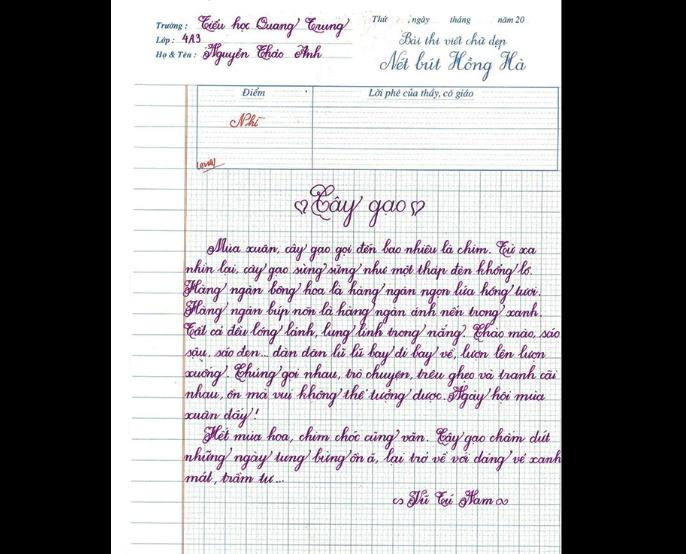text: (181, 445, 563, 473), (182, 320, 562, 348), (184, 298, 542, 327), (184, 361, 558, 388), (205, 232, 537, 262), (202, 423, 552, 451), (185, 382, 546, 409), (182, 278, 539, 305), (184, 257, 534, 284), (183, 342, 550, 364), (292, 181, 427, 229), (153, 10, 353, 41), (377, 51, 529, 83), (154, 43, 327, 68), (391, 487, 509, 510), (393, 31, 508, 52), (182, 467, 287, 487), (182, 403, 262, 429), (367, 86, 477, 103), (226, 109, 267, 130), (192, 152, 227, 175), (155, 31, 205, 46), (495, 12, 527, 28), (238, 85, 268, 100), (368, 11, 394, 26), (448, 15, 476, 27), (408, 14, 433, 26)
